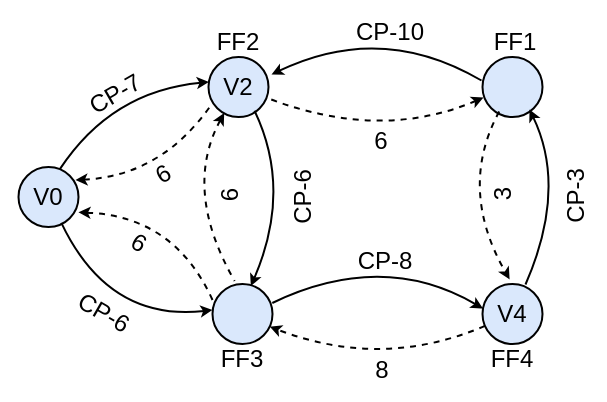
Image size: 607x402. Some labels were removed from this diagram. The centre of each missing label's shape, as x and y in pixels:
"V1" goes at (x=512, y=87).
"V3" goes at (x=242, y=313).
